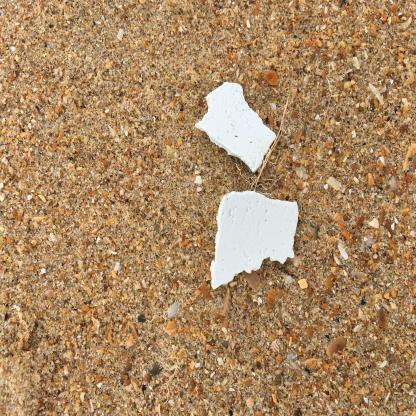trash: (90, 257, 175, 416), (178, 254, 258, 374)
